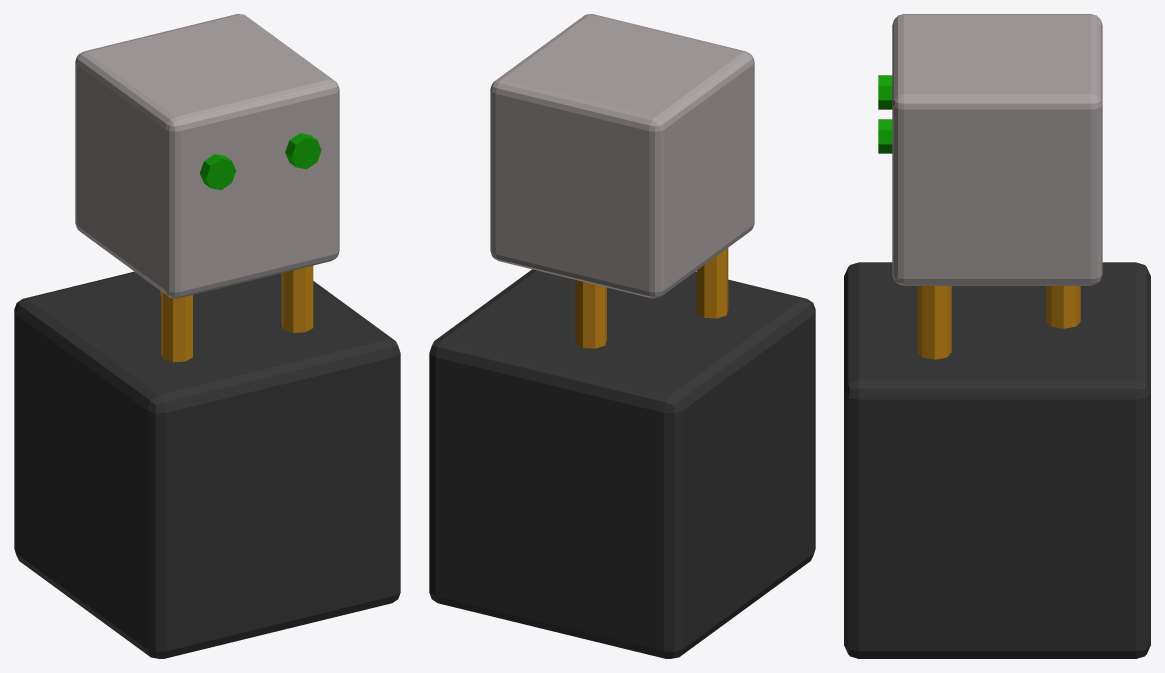
Rendered from NPC.fbx.
3 views of the same model, side by side, from view 1: azimuth 30°, elevation 25°; view 2: azimuth 150°, elevation 25°; view 3: azimuth 270°, elevation 25° (orthographic). The views are drawn at different scales.
Visible parts, largest first — view 1: NPC; view 2: NPC; view 3: NPC.
Boxes of the visible parts, x1=… form: NPC: x1=14, y1=14, x2=400, y2=658; NPC: x1=429, y1=14, x2=815, y2=658; NPC: x1=844, y1=14, x2=1150, y2=658.
Bounding box in the file's own units: 52.13 × 102 × 52.13.
